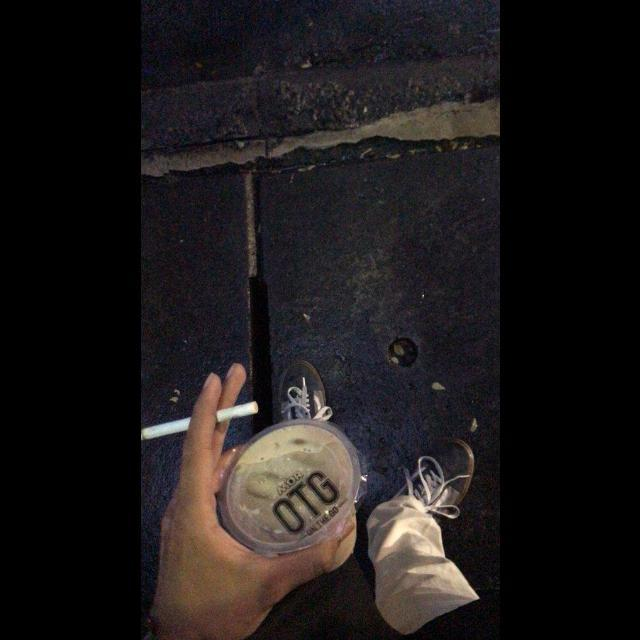rokok: (140, 396, 260, 444)
